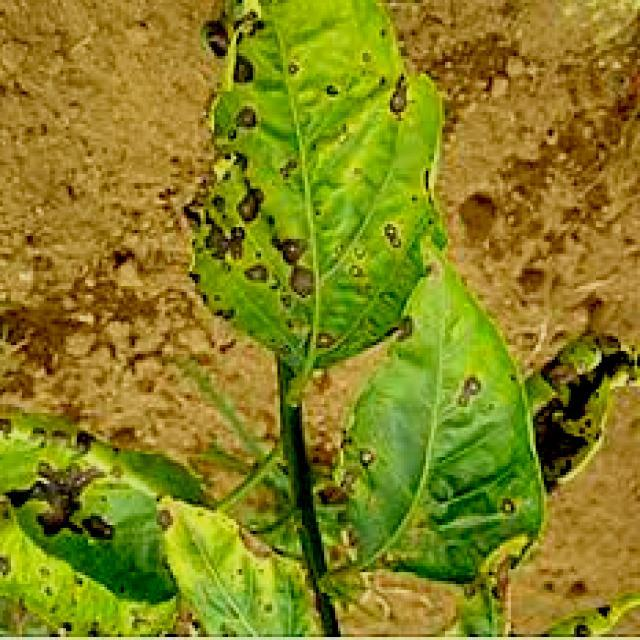Bercak Daun Serkospora: (187, 0, 448, 384), (340, 242, 550, 590)
